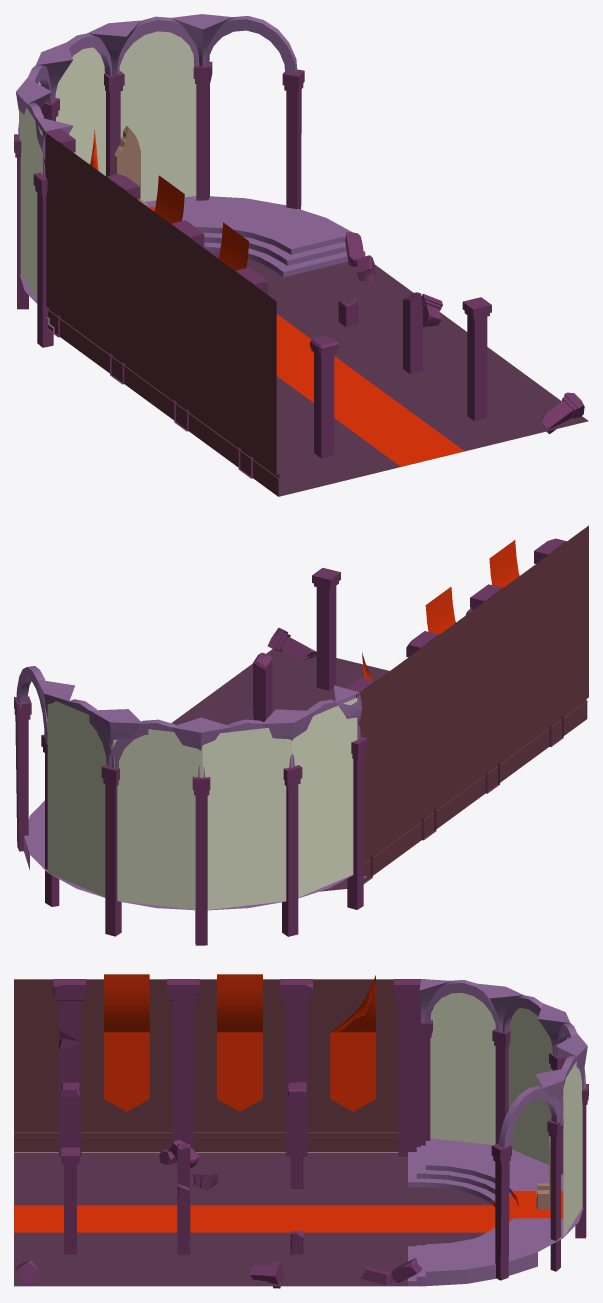
File: env_throne_ruins.fbx
The picture shows the model from 3 angles, top to bottom: view 1: azimuth 30°, elevation 25°; view 2: azimuth 150°, elevation 25°; view 3: azimuth 270°, elevation 25°; orthographic projection. The views are drawn at different scales.
Parts seen in each view (by area): view 1: wall, floor, windows, windowPillars, carpet, platform, windowCorners, windowArches, pillar_1, pillar_2, banners, wallPillars (+3 smaller); view 2: windows, wall, windowPillars, floor, windowCorners, windowArches, pillar_1, banners, wallPillars, platform, pillar_5, debris_1; view 3: floor, wall, windows, banners, wallPillars, carpet, platform, windowPillars, windowArches, windowCorners, pillar_4, pillar_1 (+8 smaller).
Boxes of the visible parts, left/top/right/bottom form: wall: left=43, top=131, right=279, bottom=496; floor: left=210, top=252, right=588, bottom=496; windows: left=19, top=31, right=196, bottom=300; windowPillars: left=14, top=61, right=304, bottom=347; carpet: left=148, top=206, right=463, bottom=466; platform: left=20, top=196, right=365, bottom=333; windowCorners: left=16, top=14, right=232, bottom=160; windowArches: left=18, top=16, right=297, bottom=177; pillar_1: left=462, top=297, right=491, bottom=421; pillar_2: left=310, top=336, right=338, bottom=458; banners: left=90, top=130, right=248, bottom=270; wallPillars: left=42, top=128, right=267, bottom=478; windows: left=47, top=698, right=357, bottom=909; wall: left=358, top=525, right=588, bottom=882; windowPillars: left=14, top=696, right=367, bottom=945; floor: left=171, top=649, right=389, bottom=891; windowCorners: left=37, top=679, right=362, bottom=750; windowArches: left=16, top=666, right=360, bottom=777; pillar_1: left=312, top=567, right=340, bottom=690; banners: left=362, top=540, right=519, bottom=680; wallPillars: left=346, top=538, right=566, bottom=883; platform: left=24, top=800, right=367, bottom=910; pillar_5: left=253, top=652, right=272, bottom=722; debris_1: left=267, top=627, right=316, bottom=660; floor: left=14, top=1153, right=492, bottom=1286; wall: left=14, top=979, right=398, bottom=1152; windows: left=430, top=993, right=582, bottom=1237; banners: left=104, top=974, right=375, bottom=1111; wallPillars: left=53, top=979, right=425, bottom=1156; carpet: left=14, top=1191, right=563, bottom=1232; platform: left=408, top=1138, right=583, bottom=1286; windowPillars: left=421, top=1020, right=588, bottom=1280; windowArches: left=424, top=980, right=585, bottom=1147; windowCorners: left=419, top=979, right=587, bottom=1114; pillar_4: left=287, top=1082, right=306, bottom=1188; pillar_1: left=61, top=1147, right=79, bottom=1254.
Size of the model in its own units: 2297 by 1589 by 4062.
